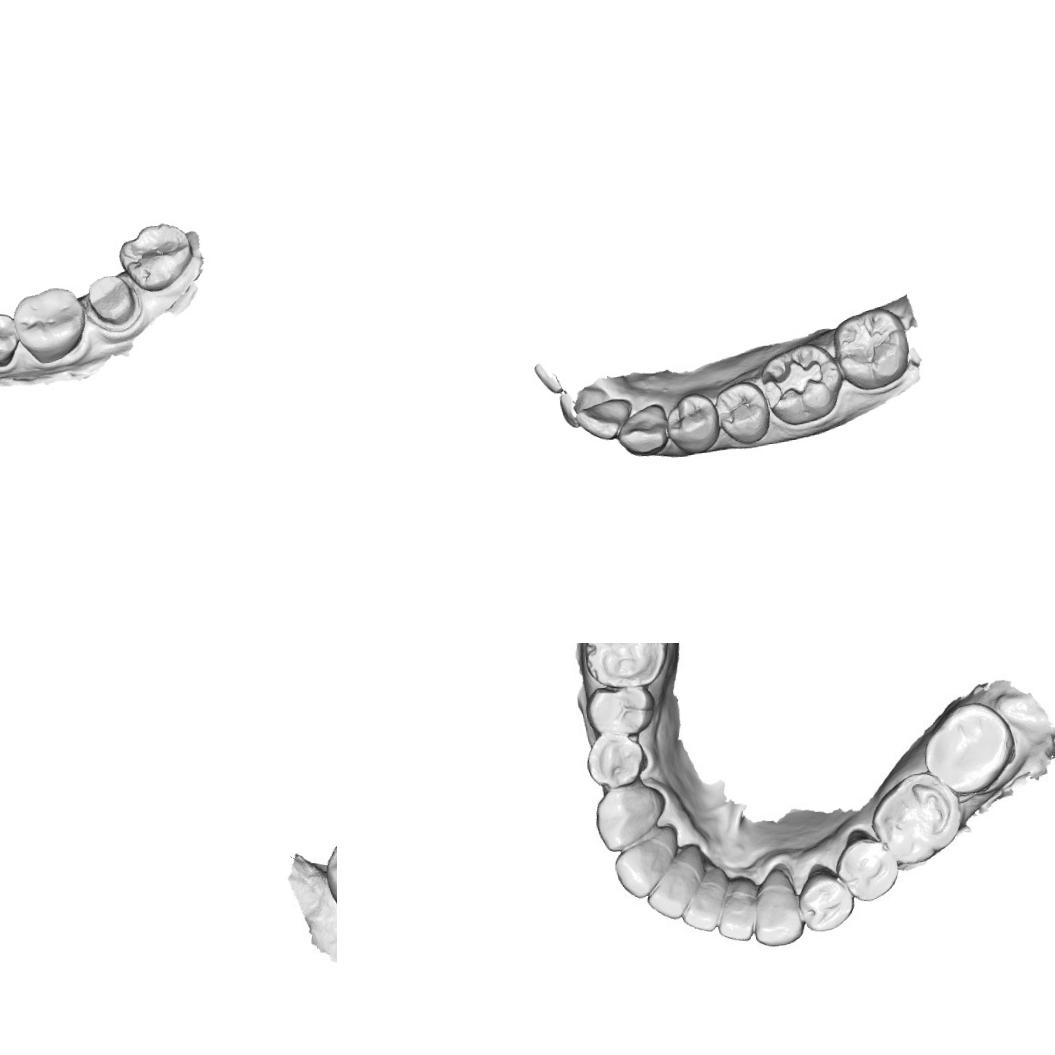canine: (589, 776, 673, 855), (747, 873, 804, 948), (614, 408, 668, 460)
crown: (83, 270, 143, 333)
incisor: (609, 826, 679, 900), (642, 853, 706, 920), (676, 858, 729, 935), (710, 865, 761, 944), (573, 396, 626, 444), (554, 383, 594, 428)
inlay: (759, 352, 827, 416)
molar: (864, 767, 962, 870), (922, 698, 1018, 795), (829, 303, 912, 393), (7, 282, 90, 367), (114, 217, 197, 296), (574, 643, 678, 693)
premolar: (832, 829, 900, 909), (706, 377, 770, 448), (584, 681, 656, 738), (794, 866, 854, 934), (582, 731, 651, 788), (666, 392, 720, 452), (0, 308, 22, 370)
